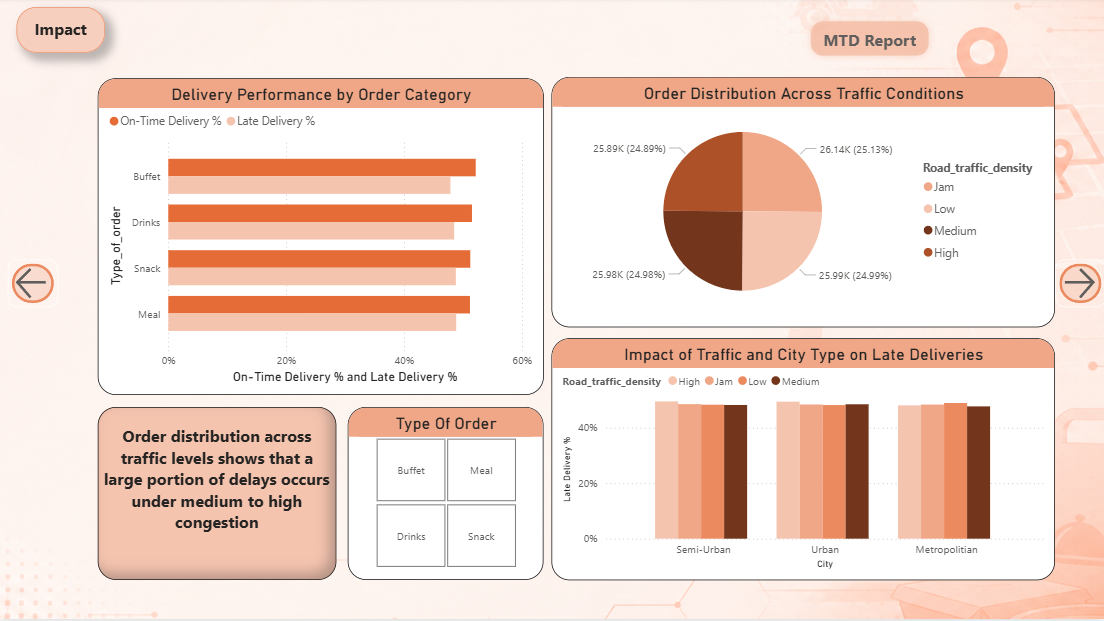

Layout of this report page (visuals, bound fields, positions):
{"tool":"powerbi","page":{"name":"impact","canvas":[1280,720],"ordinal":4},"visuals":[{"type":"clusteredBarChart","title":"Delivery Performance by Order Category","fields":{"Category":["train.Type_of_order"],"Y":["train.On-Time Delivery %","train.Late Delivery %"]},"box":[114,94,516,366],"z":0},{"type":"pieChart","title":"Order Distribution Across Traffic Conditions","fields":{"Y":["train.Total Orders"],"Category":["train.Road_traffic_density"]},"box":[639.4,92.9,582.7,289.5],"z":1000},{"type":"clusteredColumnChart","title":"Impact of Traffic and City Type on Late Deliveries","fields":{"Category":["train.City"],"Y":["train.Late Delivery %"],"Series":["train.Road_traffic_density"]},"box":[639.4,394.5,582.7,279.9],"z":2000},{"type":"actionButton","box":[1221.5,304.3,58.5,55.5],"z":3000},{"type":"actionButton","box":[10.5,304.3,58.5,55.5],"z":4000},{"type":"textbox","box":[20.5,12.1,102.5,53.1],"z":5000},{"type":"slicer","title":"Type Of Order","fields":{"Values":["train.Type_of_order"]},"box":[404,474,226,200],"z":6000},{"type":"textbox","box":[114,474,276,200],"z":7000},{"type":"actionButton","title":"MTD Report","box":[931.4,20.5,152,55.5],"z":7001}]}

Visuals, with their boxes in screenshot pixels (x1, y1, x2, y2), scaled from the page's 1280x720 canvas onto the 1104x621 screenshot:
"Delivery Performance by Order Category" clusteredBarChart: crop(98, 81, 543, 397)
"Order Distribution Across Traffic Conditions" pieChart: crop(551, 80, 1054, 330)
"Impact of Traffic and City Type on Late Deliveries" clusteredColumnChart: crop(551, 340, 1054, 582)
actionButton: crop(1054, 262, 1103, 310)
actionButton: crop(9, 262, 60, 310)
textbox: crop(18, 10, 106, 56)
"Type Of Order" slicer: crop(348, 409, 543, 581)
textbox: crop(98, 409, 336, 581)
"MTD Report" actionButton: crop(803, 18, 934, 66)
